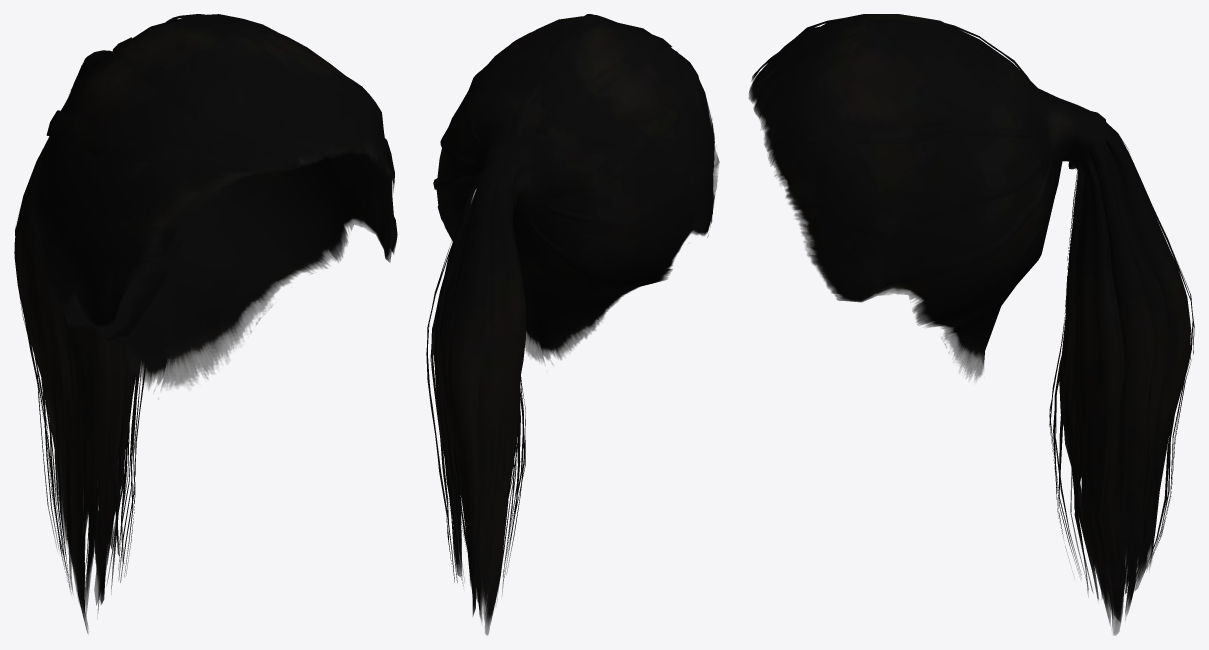
File: hair_ponytail.glb
3 views of the same model, side by side, from view 1: azimuth 30°, elevation 25°; view 2: azimuth 150°, elevation 25°; view 3: azimuth 270°, elevation 25° (orthographic). The views are drawn at different scales.
Visible parts, largest first — view 1: hair_ponytail; view 2: hair_ponytail; view 3: hair_ponytail.
Boxes of the visible parts, x1,y1,x2,y2 form: hair_ponytail: (14,14,397,633); hair_ponytail: (426,14,719,635); hair_ponytail: (748,14,1194,635).
Bounding box in the file's own units: 0.1961 × 0.4326 × 0.2833.
Materials: 1 (1 with a texture image).
